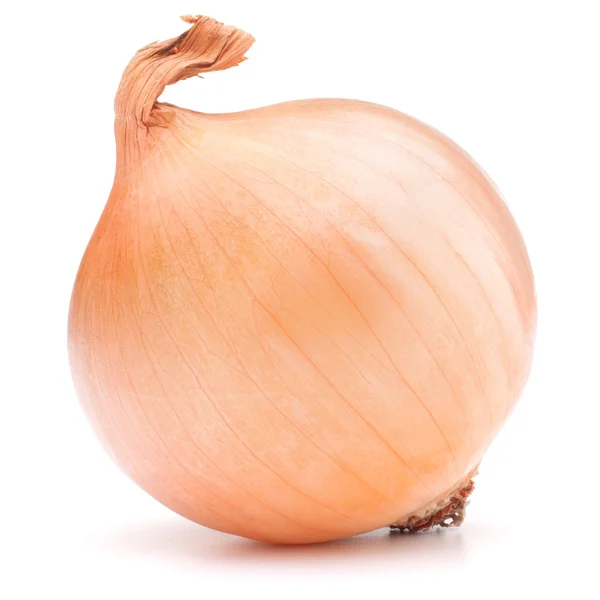onion: (57, 21, 545, 566)
